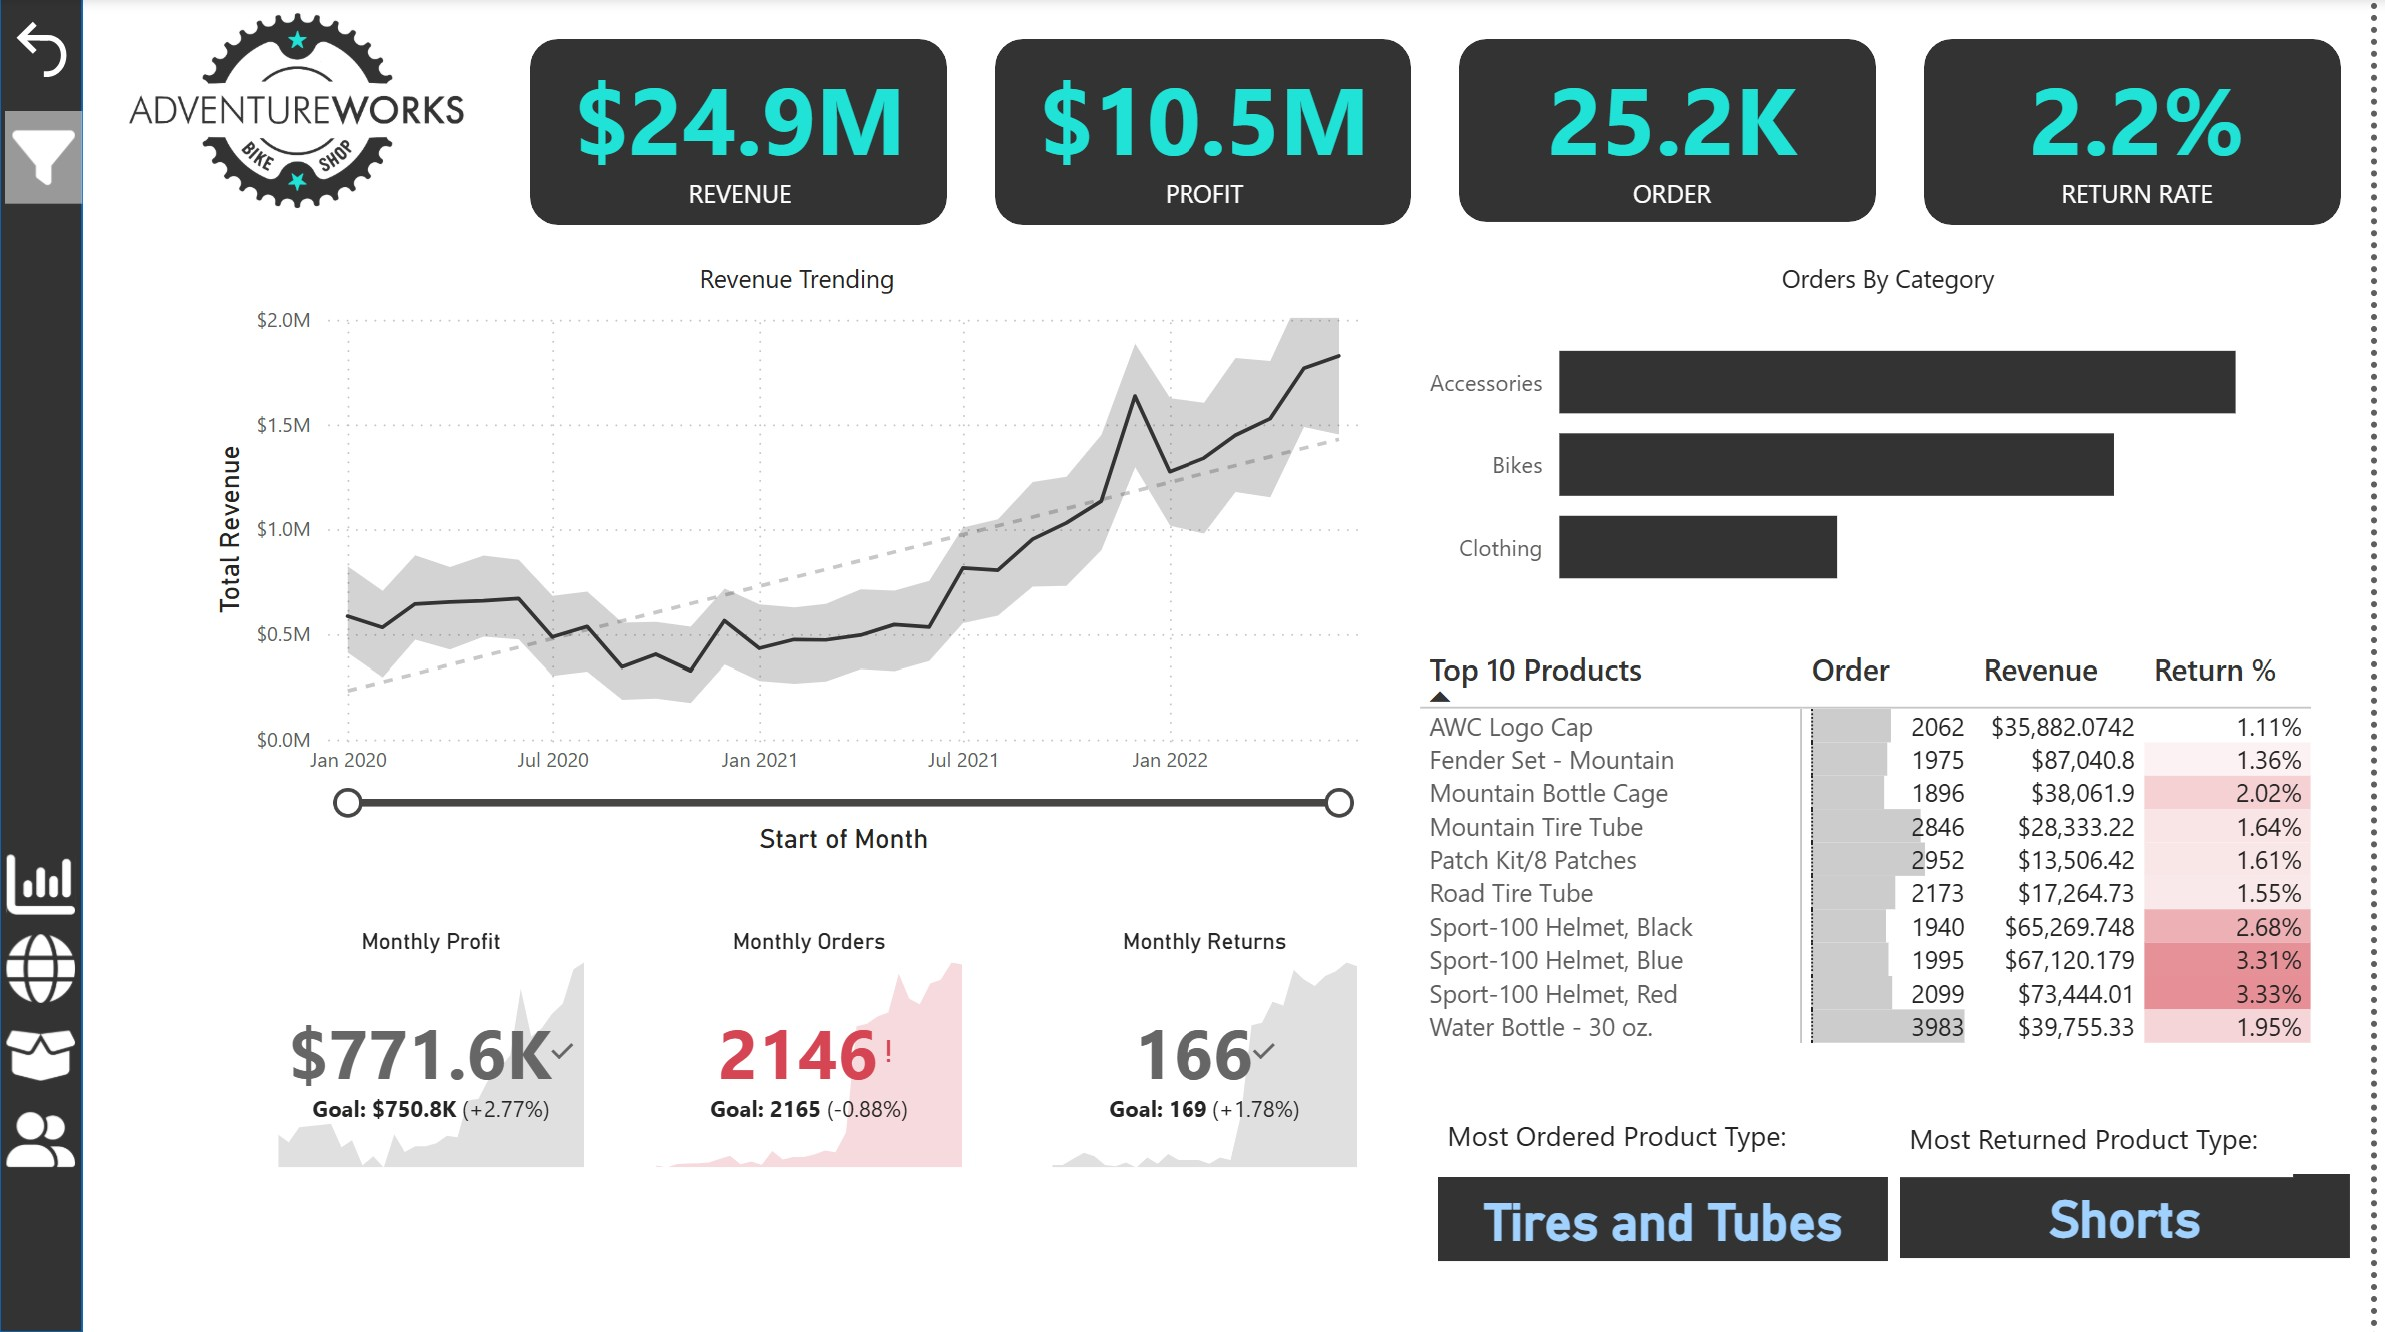

What the dashboard file says about the page in this screenshot:
{"tool":"powerbi","page":{"name":"Exact Dashboard","canvas":[1280,720],"ordinal":0},"visuals":[{"type":"shape","title":"Left NAV background","box":[0,0,45.3,720],"z":0},{"type":"card","fields":{"Values":["Maesure Table.Total Revenue"]},"box":[273.4,3.2,252.4,139.1],"z":0,"group":"g2"},{"type":"group","id":"g1","title":"KPI Background","box":[286.3,22.6,977.3,100.3],"z":0,"group":"g3"},{"type":"shape","box":[286.3,22.6,224.9,100.3],"z":0,"group":"g1"},{"type":"actionButton","box":[0,455,45,46.7],"z":0,"group":"g4"},{"type":"image","title":"AW logo","box":[45.3,0,231.4,123],"z":1000},{"type":"group","id":"g2","title":"KPI Values","box":[273.4,3.2,1006.4,139.1],"z":1000,"group":"g3"},{"type":"card","fields":{"Values":["Maesure Table.Total Profit"]},"box":[524.7,3.2,252.4,139.1],"z":1000,"group":"g2"},{"type":"shape","box":[537.1,22.6,224.9,100.3],"z":1000,"group":"g1"},{"type":"actionButton","box":[0,501.1,45,46.7],"z":1000,"group":"g4"},{"type":"group","id":"g3","title":"KPIs","box":[273.4,3.2,1006.4,139.1],"z":2000},{"type":"card","fields":{"Values":["Maesure Table.Total Order"]},"box":[776.1,3.2,252.4,139.1],"z":2000,"group":"g2"},{"type":"shape","box":[1038.7,22.6,224.9,100.3],"z":2000,"group":"g1"},{"type":"actionButton","box":[0,547.2,45,46.7],"z":2000,"group":"g4"},{"type":"card","fields":{"Values":["Maesure Table.Return Rate"]},"box":[1027.4,3.2,252.4,139.1],"z":3000,"group":"g2"},{"type":"shape","box":[787.9,22.6,224.9,98.7],"z":3000,"group":"g1"},{"type":"lineChart","title":"Revenue Trending","fields":{"Y":["Maesure Table.Total Revenue"],"Category":["Calendar Lookup.Start of Month"]},"box":[111.6,142.4,637.5,323.6],"z":3000},{"type":"actionButton","box":[0,593.3,45,46.7],"z":3000,"group":"g4"},{"type":"kpi","title":"Monthly Profit","fields":{"TrendLine":["Calendar Lookup.Start of Month"],"Goal":["Maesure Table.Previous Month Profit"],"Indicator":["Maesure Table.Total Profit"]},"box":[146,500.8,174.9,134.1],"z":4000},{"type":"kpi","title":"Monthly Orders","fields":{"TrendLine":["Calendar Lookup.Start of Month"],"Indicator":["Maesure Table.Total Order"],"Goal":["Maesure Table.Previous Month Orders"]},"box":[349.7,500.8,174.9,134.1],"z":5000},{"type":"kpi","title":"Monthly Returns","fields":{"TrendLine":["Calendar Lookup.Start of Month"],"Indicator":["Maesure Table.Total Return"],"Goal":["Maesure Table.Previous Month Returns"]},"box":[563.6,500.8,174.9,134.1],"z":6000},{"type":"clusteredBarChart","title":"Orders By Category","fields":{"Category":["Product Categories Lookup.CategoryName"],"Y":["Maesure Table.Total Order"]},"box":[762.1,142.4,514.5,195.8],"z":7000},{"type":"pivotTable","fields":{"Rows":["Product Lookup.ProductName"],"Values":["Maesure Table.Total Order","Maesure Table.Total Revenue","Maesure Table.Return Rate"]},"box":[762.1,346.2,514.5,239.5],"z":8000},{"type":"card","fields":{"Values":["Min(Product Subcategories Lookup.SubcategoryName)"]},"box":[776.6,635.9,242.7,45.3],"z":9000},{"type":"textbox","box":[776.6,598.7,212,35.6],"z":10000},{"type":"card","fields":{"Values":["Min(Product Subcategories Lookup.SubcategoryName)"]},"box":[1025.8,634.2,242.7,45.3],"z":11000},{"type":"textbox","box":[1025,600,212,35.6],"z":12000},{"type":"actionButton","box":[3.3,8.3,45,40],"z":13000},{"type":"group","id":"g4","title":"Navigation Button","box":[0,455,45,185],"z":14000},{"type":"actionButton","box":[3.3,61.7,41.7,50],"z":15000}]}

Visuals, with their boxes on the page's 1280x720 design canvas (x1, y1, x2, y2). These are canvas units, not pixel positions in the 2385x1332 screenshot, which may show the page scaled, cropped or inside an application window:
"Left NAV background" shape: {"left": 0, "top": 0, "right": 45, "bottom": 720}
card - Maesure Table.Total Revenue: {"left": 273, "top": 3, "right": 526, "bottom": 142}
"KPI Background" group: {"left": 286, "top": 23, "right": 1264, "bottom": 123}
shape: {"left": 286, "top": 23, "right": 511, "bottom": 123}
actionButton: {"left": 0, "top": 455, "right": 45, "bottom": 502}
"AW logo" image: {"left": 45, "top": 0, "right": 277, "bottom": 123}
"KPI Values" group: {"left": 273, "top": 3, "right": 1280, "bottom": 142}
card - Maesure Table.Total Profit: {"left": 525, "top": 3, "right": 777, "bottom": 142}
shape: {"left": 537, "top": 23, "right": 762, "bottom": 123}
actionButton: {"left": 0, "top": 501, "right": 45, "bottom": 548}
"KPIs" group: {"left": 273, "top": 3, "right": 1280, "bottom": 142}
card - Maesure Table.Total Order: {"left": 776, "top": 3, "right": 1028, "bottom": 142}
shape: {"left": 1039, "top": 23, "right": 1264, "bottom": 123}
actionButton: {"left": 0, "top": 547, "right": 45, "bottom": 594}
card - Maesure Table.Return Rate: {"left": 1027, "top": 3, "right": 1280, "bottom": 142}
shape: {"left": 788, "top": 23, "right": 1013, "bottom": 121}
"Revenue Trending" lineChart: {"left": 112, "top": 142, "right": 749, "bottom": 466}
actionButton: {"left": 0, "top": 593, "right": 45, "bottom": 640}
"Monthly Profit" kpi: {"left": 146, "top": 501, "right": 321, "bottom": 635}
"Monthly Orders" kpi: {"left": 350, "top": 501, "right": 525, "bottom": 635}
"Monthly Returns" kpi: {"left": 564, "top": 501, "right": 738, "bottom": 635}
"Orders By Category" clusteredBarChart: {"left": 762, "top": 142, "right": 1277, "bottom": 338}
pivotTable - Product Lookup.ProductName x Maesure Table.Total Order: {"left": 762, "top": 346, "right": 1277, "bottom": 586}
card - Min(Product Subcategories Lookup.SubcategoryName): {"left": 777, "top": 636, "right": 1019, "bottom": 681}
textbox: {"left": 777, "top": 599, "right": 989, "bottom": 634}
card - Min(Product Subcategories Lookup.SubcategoryName): {"left": 1026, "top": 634, "right": 1268, "bottom": 680}
textbox: {"left": 1025, "top": 600, "right": 1237, "bottom": 636}
actionButton: {"left": 3, "top": 8, "right": 48, "bottom": 48}
"Navigation Button" group: {"left": 0, "top": 455, "right": 45, "bottom": 640}
actionButton: {"left": 3, "top": 62, "right": 45, "bottom": 112}
